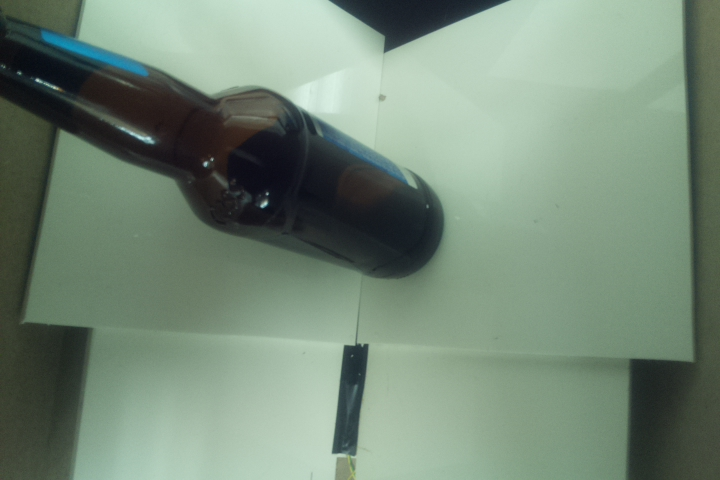makju: (1, 5, 446, 281)
